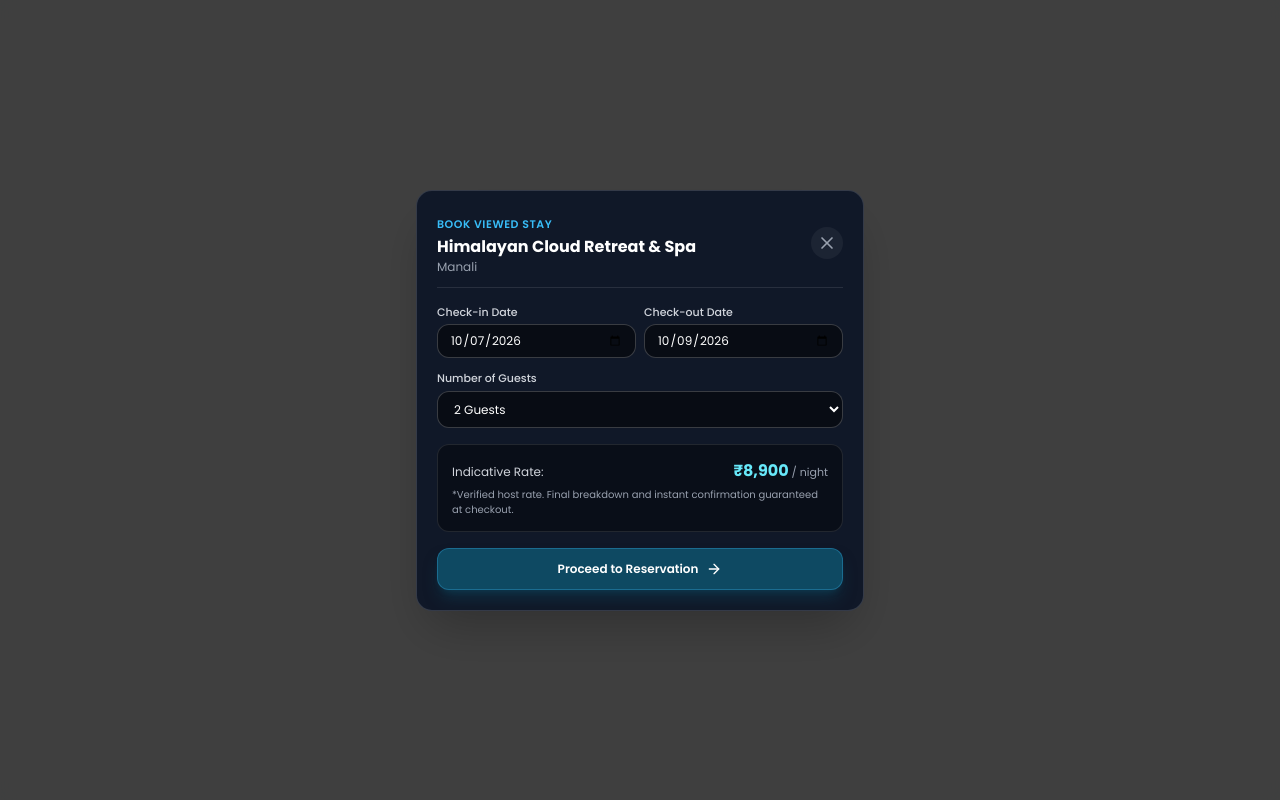
Test: Task 4 — Real Booking Journey Verification Suite › journey: past dates show validation error and disable handoff CTA
This screenshot has width=1280, height=800.
Expected: the button "Proceed to Reservation" is enabled, [437, 548, 843, 590]
In the date field below "Check-in Date": (536, 341) [437, 324, 636, 358], type "2020-01-01"
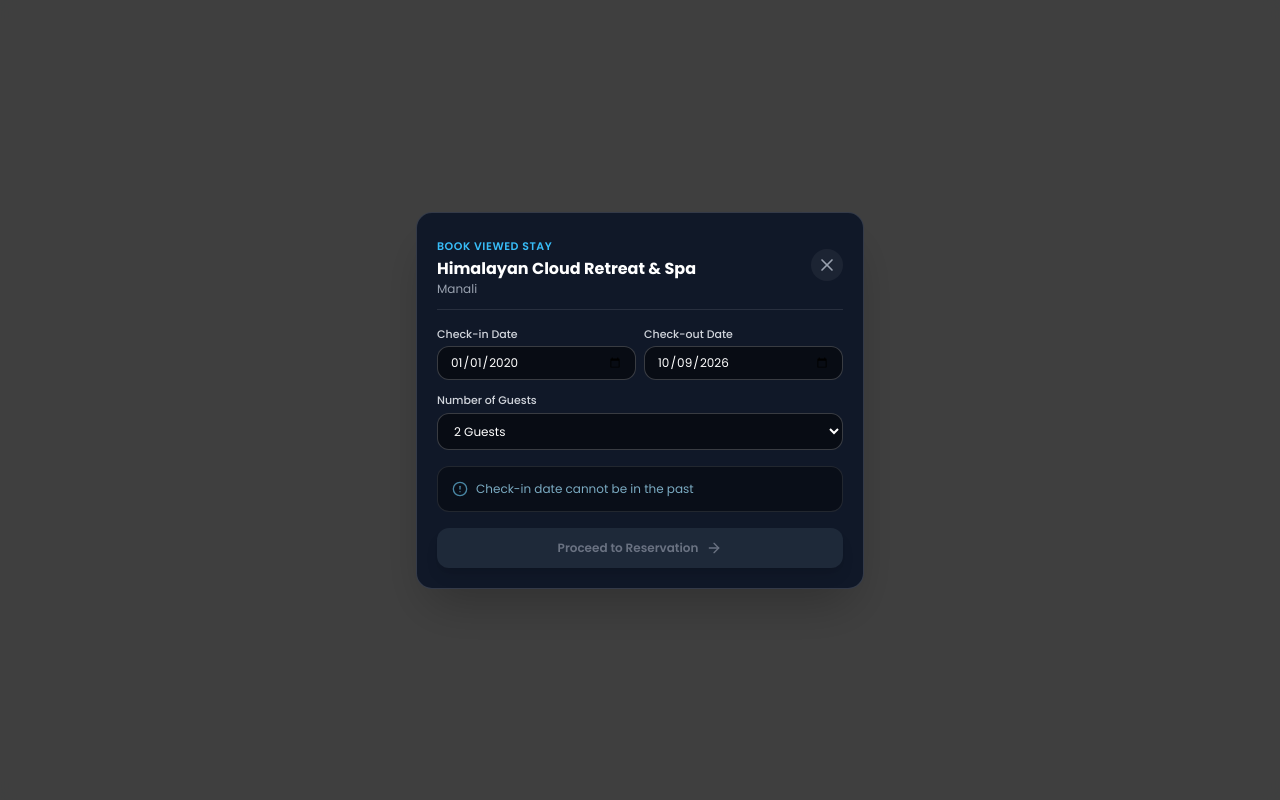
Result: the text "Check-in date cannot be in the past" is shown at [476, 480, 694, 496]
Result: the button "Proceed to Reservation" is disabled at [437, 528, 843, 568]
